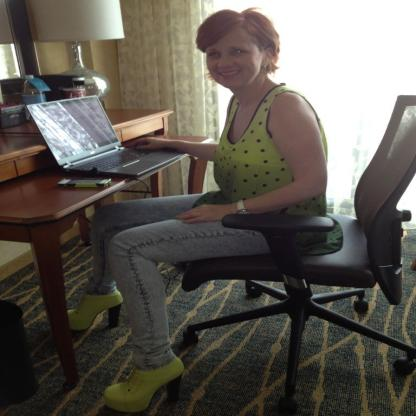board: (18, 90, 188, 184), (22, 74, 48, 124)
